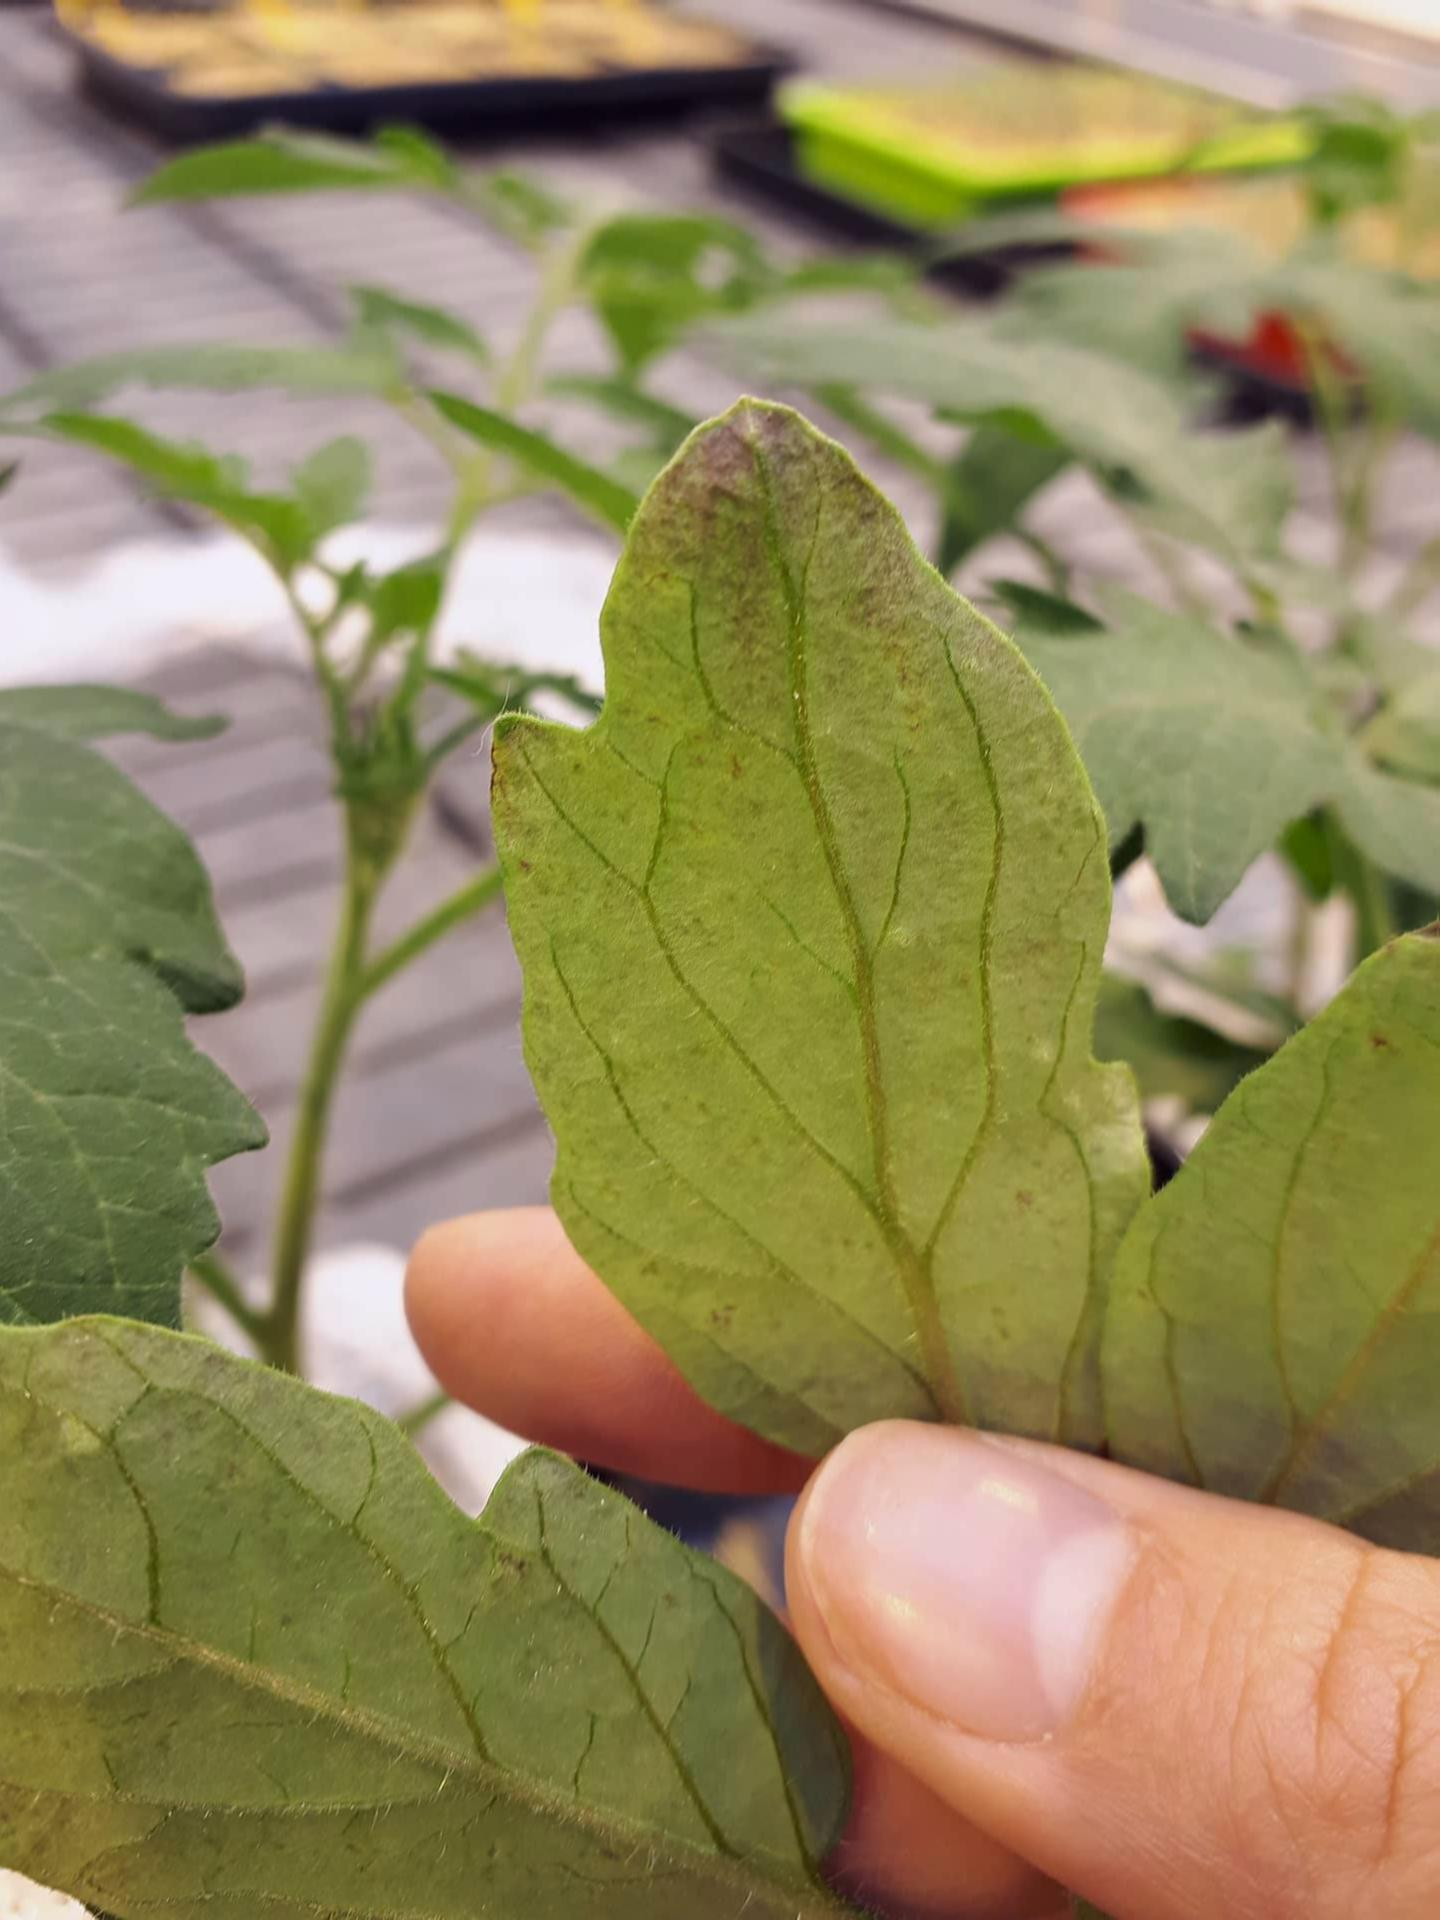Tomato mold leaf: (459, 360, 1180, 1549)
